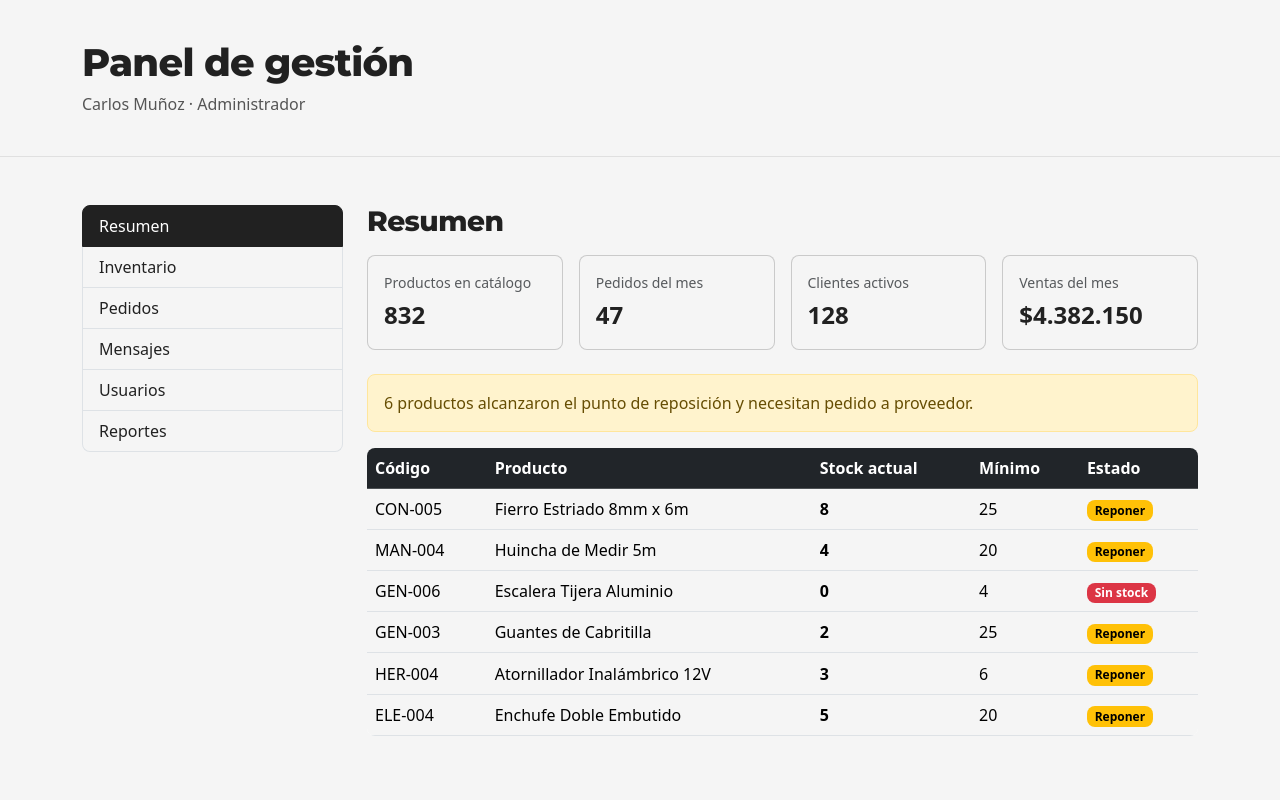
Scenario: Panel › muestra el aviso al guardar el stock
Expected: the heading "Resumen" is shown, left=367, top=204, right=503, bottom=238
Click the button "Inventario" at (138, 267), box left=82, top=247, right=343, bottom=288
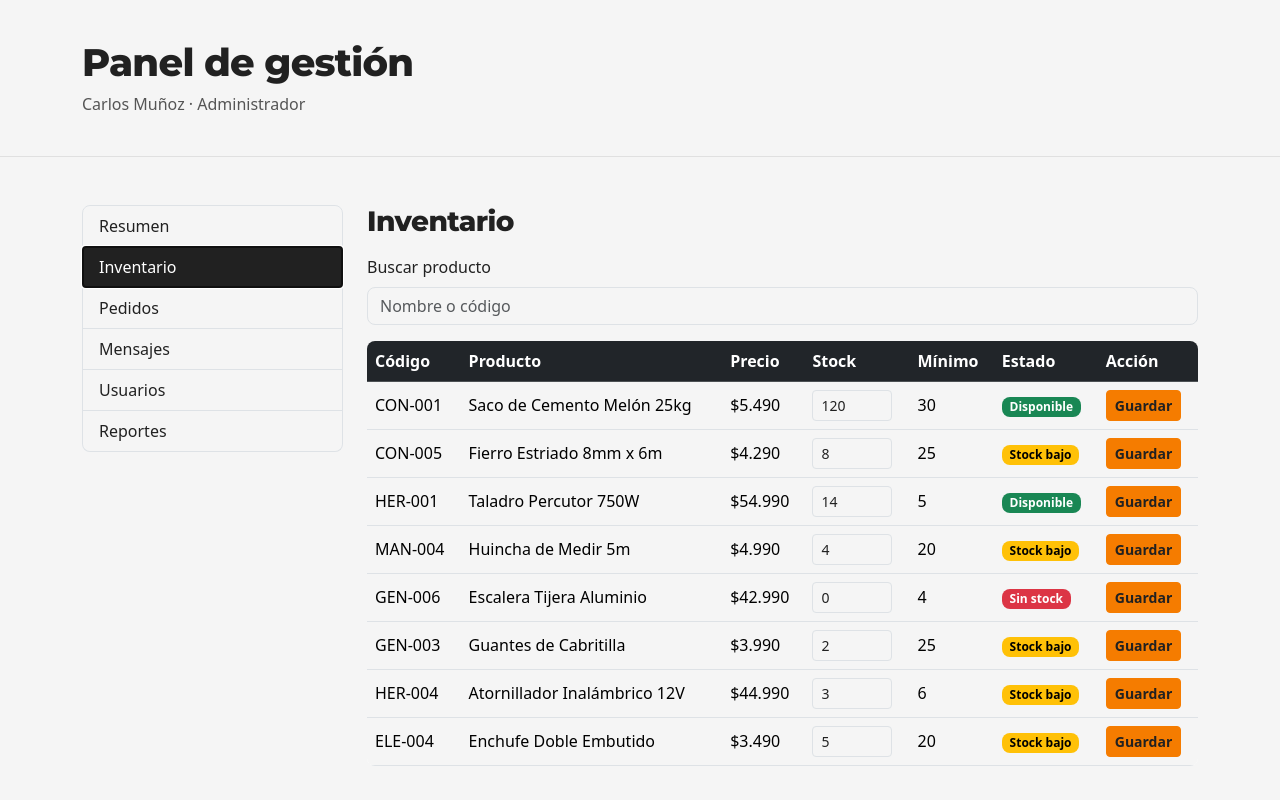
Click the button "Guardar" in the row of "CON-001" at (1144, 405), box left=1106, top=390, right=1181, bottom=421
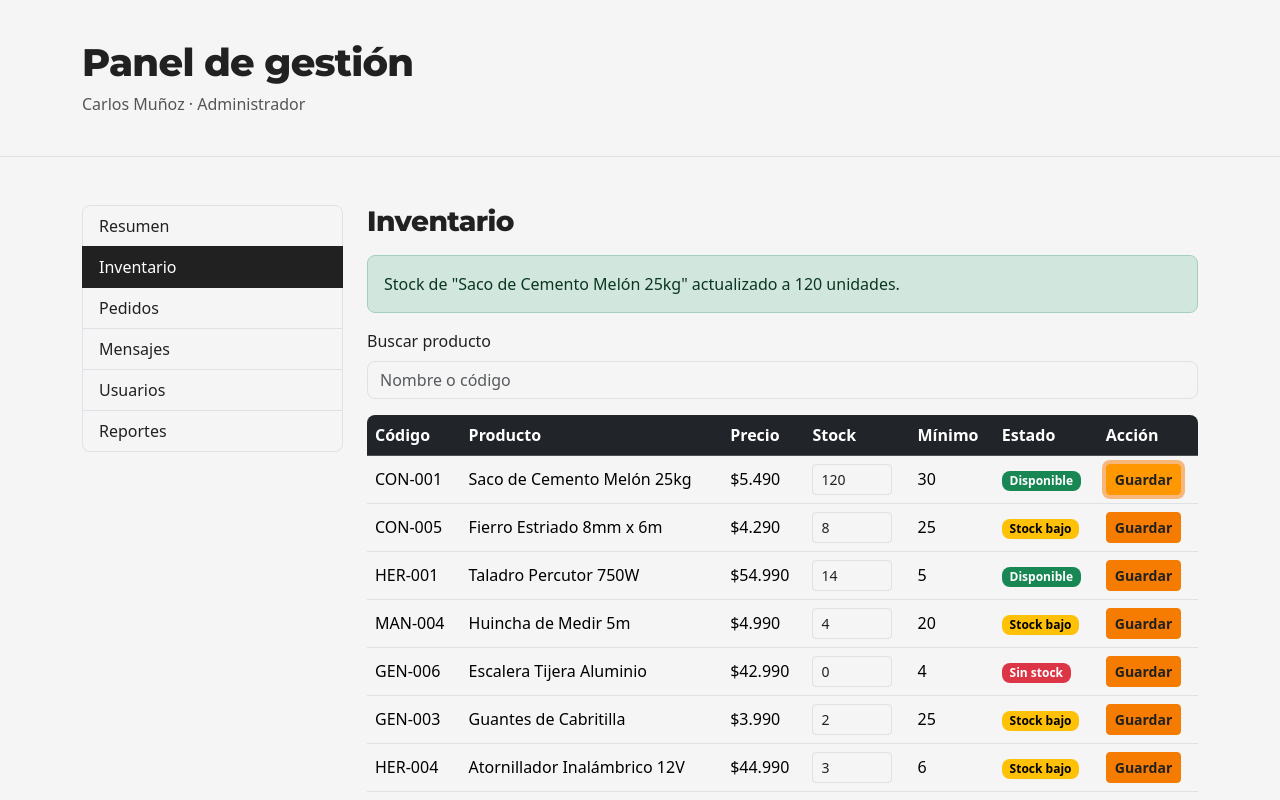
Result: the text "Stock de \"Saco de Cemento Melón 25kg\" actualizado a 120 unidades." is shown at left=367, top=255, right=1198, bottom=313
